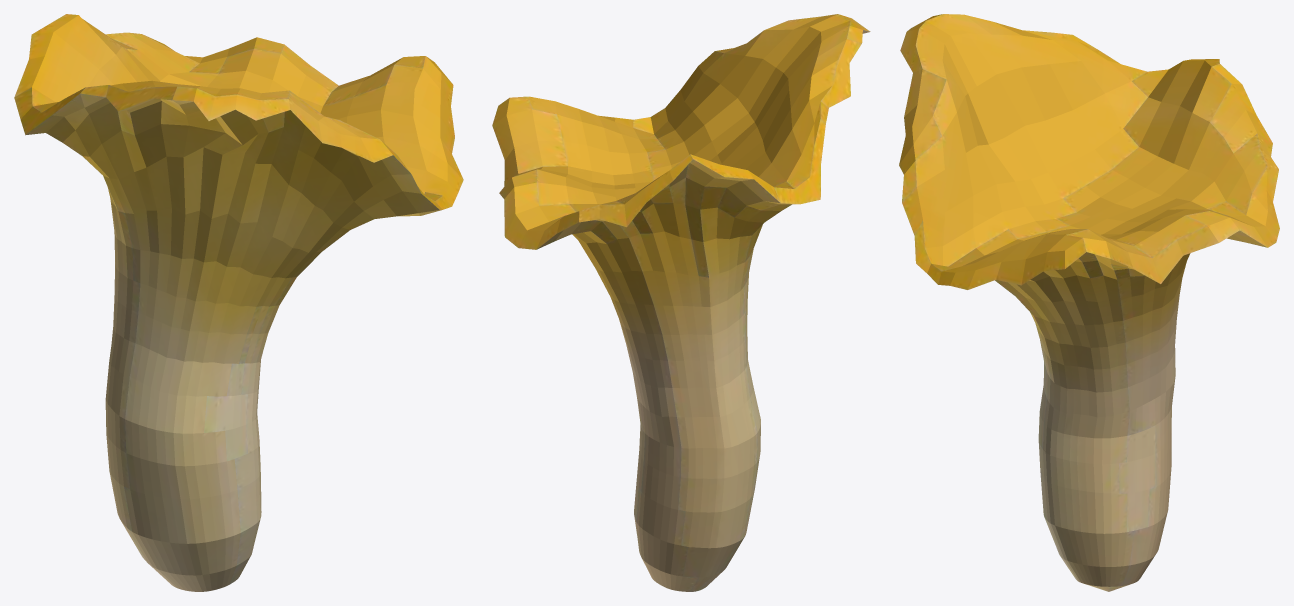
Rendered from veg_chanterelle.glb.
3 renders of one model, left to right at view 1: azimuth 30°, elevation 25°; view 2: azimuth 150°, elevation 25°; view 3: azimuth 270°, elevation 25°, orthographic. The views are drawn at different scales.
Parts seen in each view (by area): view 1: Object_4; view 2: Object_4; view 3: Object_4.
Boxes of the visible parts, x1,y1,x2,y2 form: Object_4: [14, 14, 463, 591]; Object_4: [492, 14, 870, 591]; Object_4: [899, 14, 1279, 591].
Size of the model in its own units: 0.0556 by 0.08 by 0.0517.
1 material, 1 textured.
